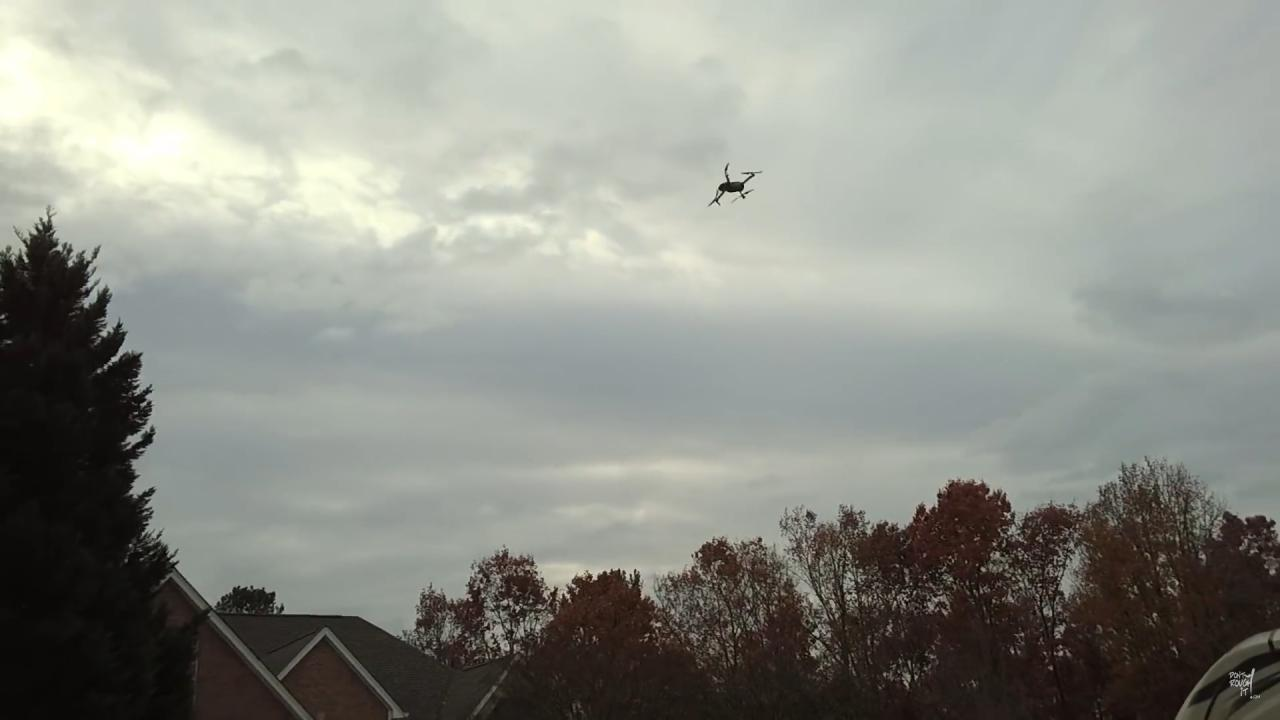Drone: (697, 158, 769, 215)
